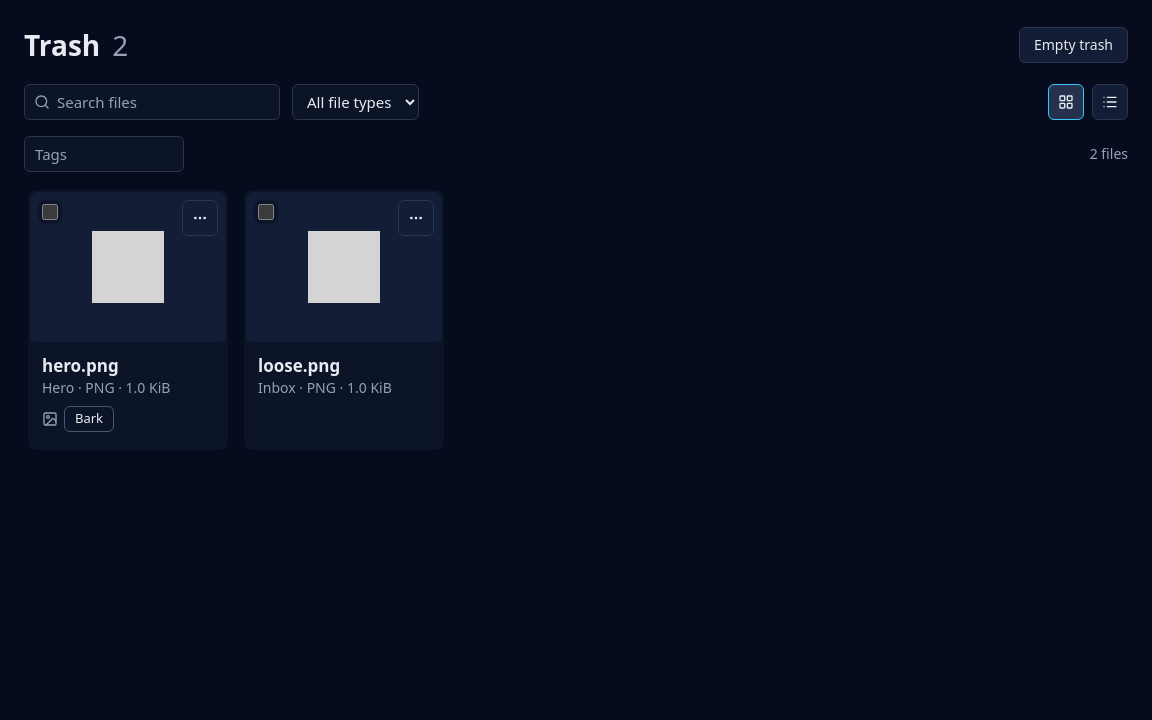
Test: cancelling the confirmation sends nothing
Expected: the text "hero.png" is shown, [42, 354, 119, 377]
Click the 1st button named "File actions" at (200, 218), box [182, 200, 218, 236]
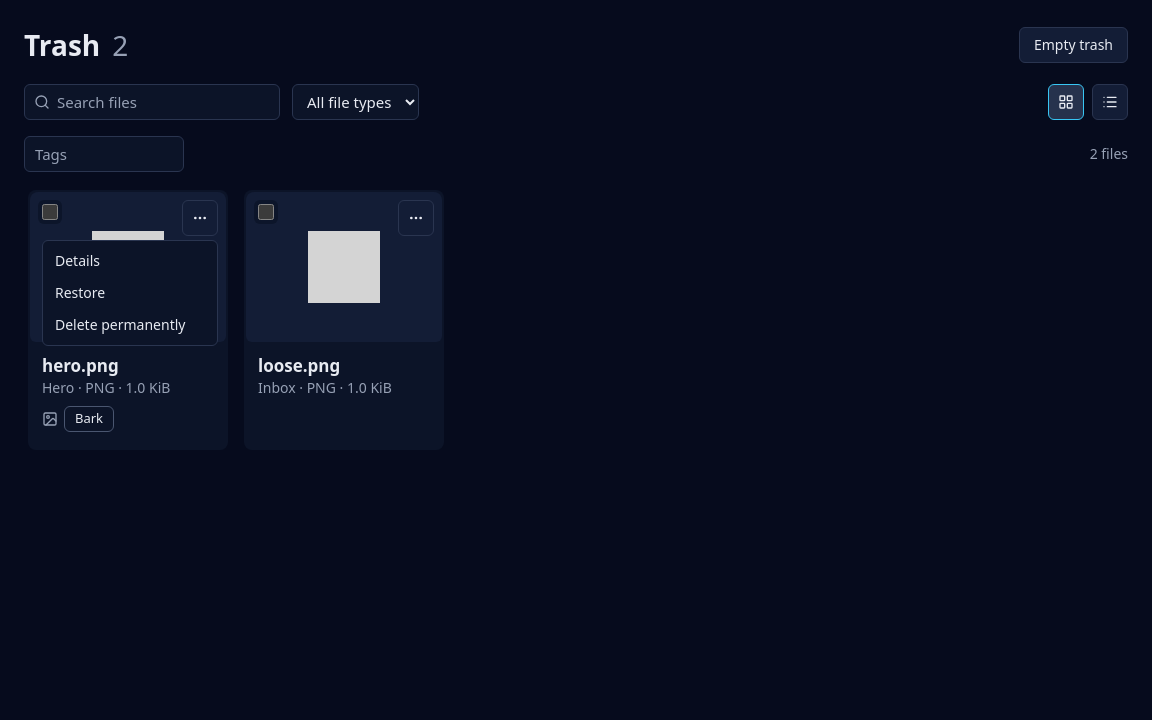
Click the menu item "Delete permanently" at (120, 324), box [55, 315, 186, 334]
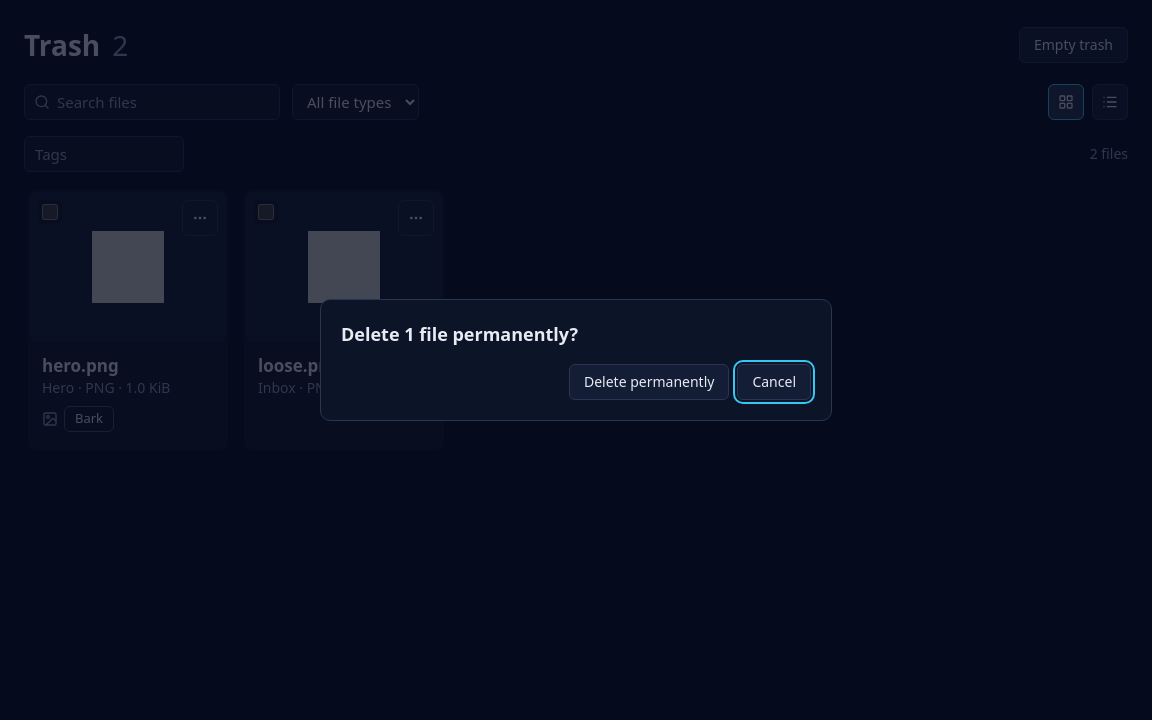
Click the button "Cancel" at (774, 382), box [737, 364, 811, 400]
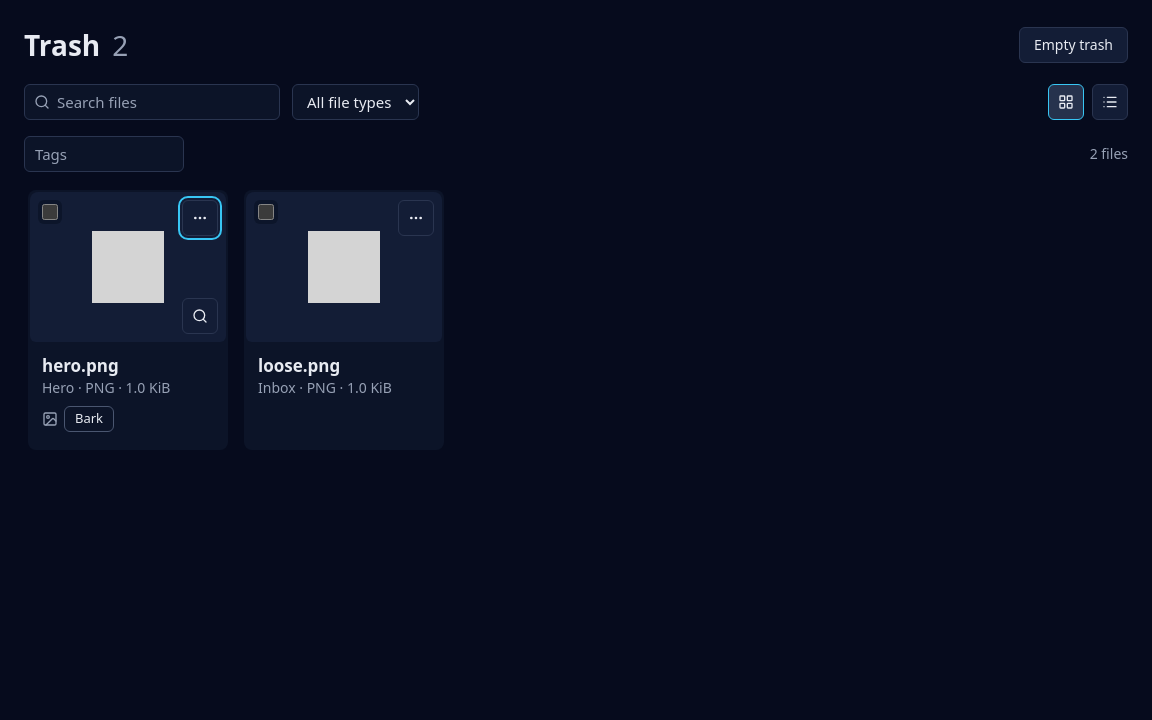
Expected: the text "hero.png" is shown, [42, 354, 119, 377]
Now the dialog is gone
